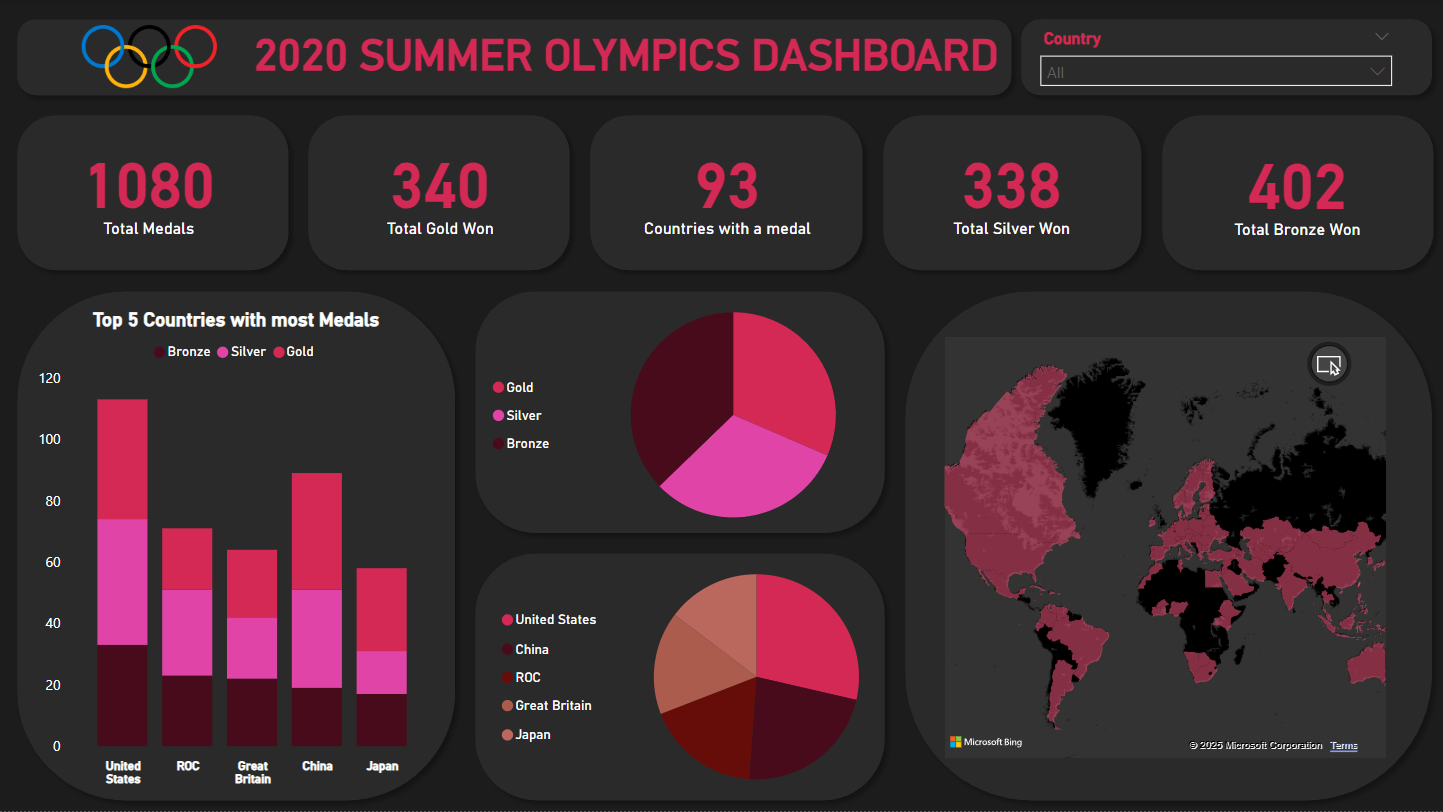

Layout of this report page (visuals, bound fields, positions):
{"tool":"powerbi","page":{"name":"Page 1","canvas":[1280,720],"ordinal":0},"visuals":[{"type":"shape","box":[515.5,94.3,259.7,155.6],"z":0},{"type":"shape","box":[6.8,8.8,899.7,85.6],"z":1000},{"type":"shape","box":[6.8,94.3,258.7,155.6],"z":2000},{"type":"shape","box":[897.8,8.8,382.2,85.6],"z":3000},{"type":"shape","box":[775.2,94.3,247.1,155.6],"z":4000},{"type":"shape","box":[1022.2,94.3,258.7,155.6],"z":5000},{"type":"shape","box":[265.5,94.3,250,155.6],"z":6000},{"type":"card","fields":{"Values":["Sum(medals.Bronze)"]},"box":[1022.2,76.8,257.8,179.9],"z":7000},{"type":"card","fields":{"Values":["Sum(medals.Gold)"]},"box":[248,94.3,286,144.9],"z":8000},{"type":"card","fields":{"Values":["Sum(medals.Silver)"]},"box":[749.9,94.3,295.7,144.9],"z":9000},{"type":"card","fields":{"Values":["Sum(medals.Total)"]},"box":[0,94.3,265.5,144.9],"z":10000},{"type":"textbox","box":[121.6,22.4,769.4,83.6],"z":11000},{"type":"slicer","fields":{"Values":["medals.Country"]},"box":[913.3,22.4,331.7,57.4],"z":12000},{"type":"card","fields":{"Values":["Count(medals.Country)"]},"box":[481.5,94.3,328.8,144.9],"z":13000},{"type":"shape","box":[6.8,250,406.6,469.8],"z":14000},{"type":"columnChart","title":"Top 5 Countries with most Medals","fields":{"Category":["medals.Country"],"Y":["Sum(medals.Bronze)","Sum(medals.Silver)","Sum(medals.Gold)"]},"box":[29.2,274.3,361.8,431.9],"z":15000},{"type":"shape","box":[794.7,250,485.3,469.8],"z":16000},{"type":"filledMap","title":"Medals won by Countries","fields":{"Category":["medals.Country"]},"box":[833.6,294.7,400.7,384.2],"z":17000},{"type":"shape","box":[413.4,250,381.3,232.5],"z":18000},{"type":"pieChart","fields":{"Y":["Sum(medals.Gold)","Sum(medals.Silver)","Sum(medals.Bronze)"]},"box":[431.9,250,377.4,237.3],"z":19000},{"type":"shape","box":[413.4,482.4,381.3,237.3],"z":20000},{"type":"pieChart","fields":{"Category":["medals.Country"],"Y":["Sum(medals.Total)"]},"box":[439.6,482.4,369.6,237.3],"z":21000},{"type":"image","box":[68.1,6.8,130.3,87.5],"z":22000}]}

Visuals, with their boxes in screenshot pixels (x1, y1, x2, y2), scaled from the page's 1280x720 canvas onto the 1443x812 screenshot:
shape: detection(581, 106, 874, 282)
shape: detection(8, 10, 1022, 106)
shape: detection(8, 106, 299, 282)
shape: detection(1012, 10, 1442, 106)
shape: detection(874, 106, 1152, 282)
shape: detection(1152, 106, 1442, 282)
shape: detection(299, 106, 581, 282)
card - Sum(medals.Bronze): detection(1152, 87, 1442, 290)
card - Sum(medals.Gold): detection(280, 106, 602, 270)
card - Sum(medals.Silver): detection(845, 106, 1179, 270)
card - Sum(medals.Total): detection(0, 106, 299, 270)
textbox: detection(137, 25, 1004, 120)
slicer - medals.Country: detection(1030, 25, 1404, 90)
card - Count(medals.Country): detection(543, 106, 913, 270)
shape: detection(8, 282, 466, 811)
"Top 5 Countries with most Medals" columnChart: detection(33, 309, 441, 796)
shape: detection(896, 282, 1442, 811)
"Medals won by Countries" filledMap: detection(940, 332, 1391, 766)
shape: detection(466, 282, 896, 544)
pieChart - Sum(medals.Gold) x Sum(medals.Silver): detection(487, 282, 912, 550)
shape: detection(466, 544, 896, 811)
pieChart - medals.Country x Sum(medals.Total): detection(496, 544, 912, 811)
image: detection(77, 8, 224, 106)
